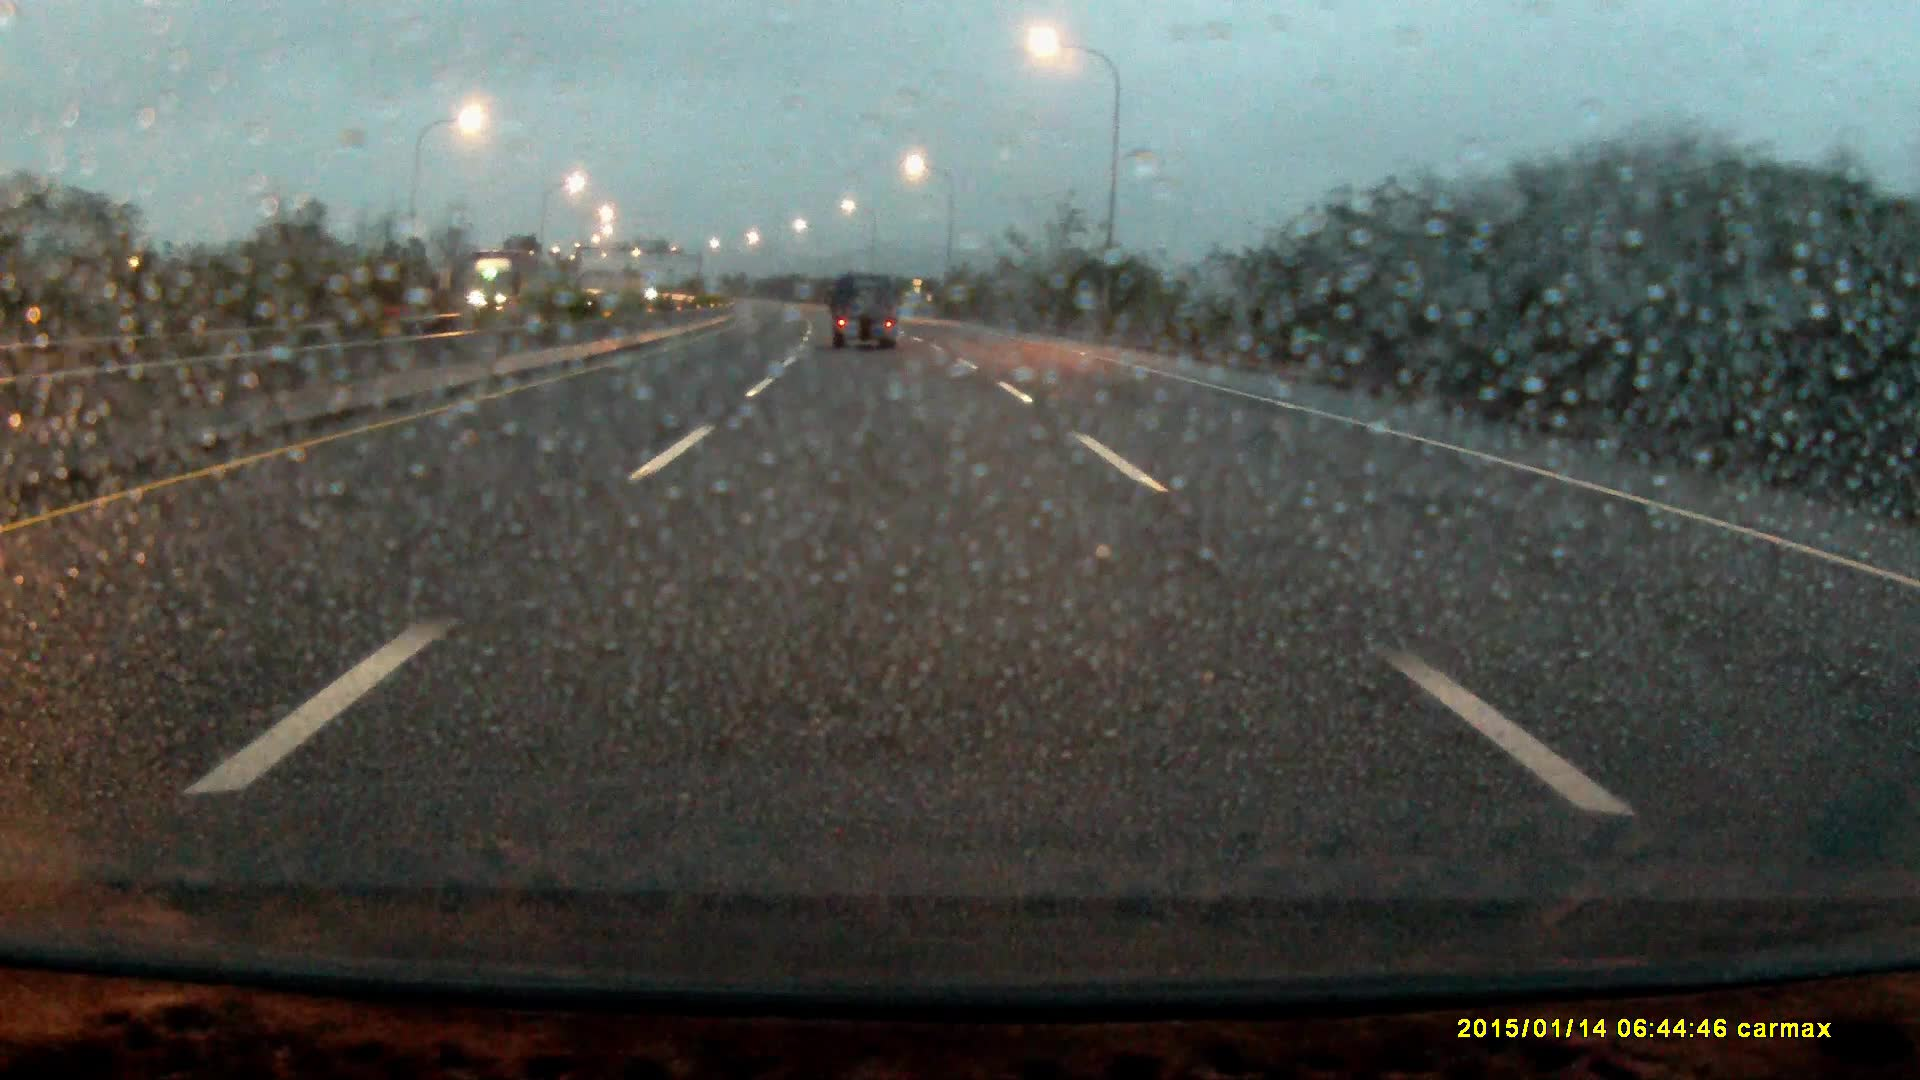vehicle: (454, 248, 556, 331), (832, 272, 902, 351)
